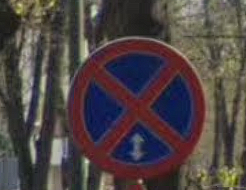oprirea_interzisa: (64, 35, 206, 181)
